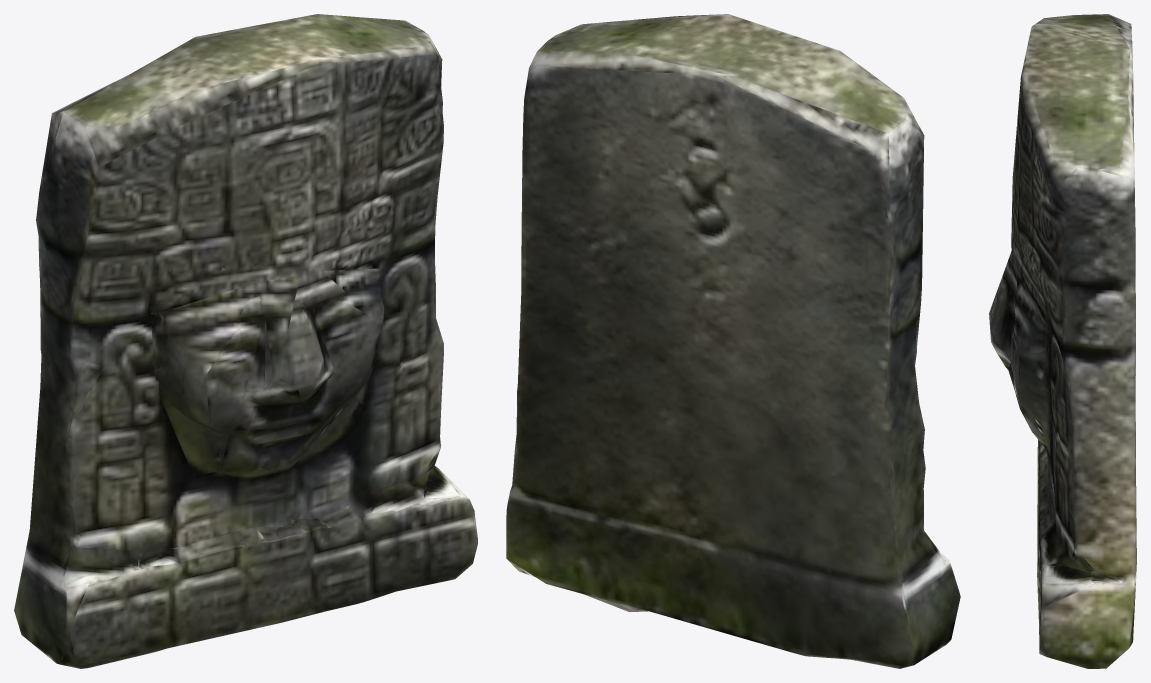
Rendered from stone-statue.lod1.glb.
3 renders of one model, left to right at view 1: azimuth 30°, elevation 25°; view 2: azimuth 150°, elevation 25°; view 3: azimuth 270°, elevation 25°, orthographic. The views are drawn at different scales.
Parts seen in each view (by area): view 1: Object_5; view 2: Object_5; view 3: Object_5.
Boxes of the visible parts, x1,y1,x2,y2 form: Object_5: (14, 14, 477, 668); Object_5: (506, 14, 960, 668); Object_5: (989, 14, 1136, 668).
Bounding box in the file's own units: 1.2 × 1.58 × 0.4045.
1 material, 1 textured.
